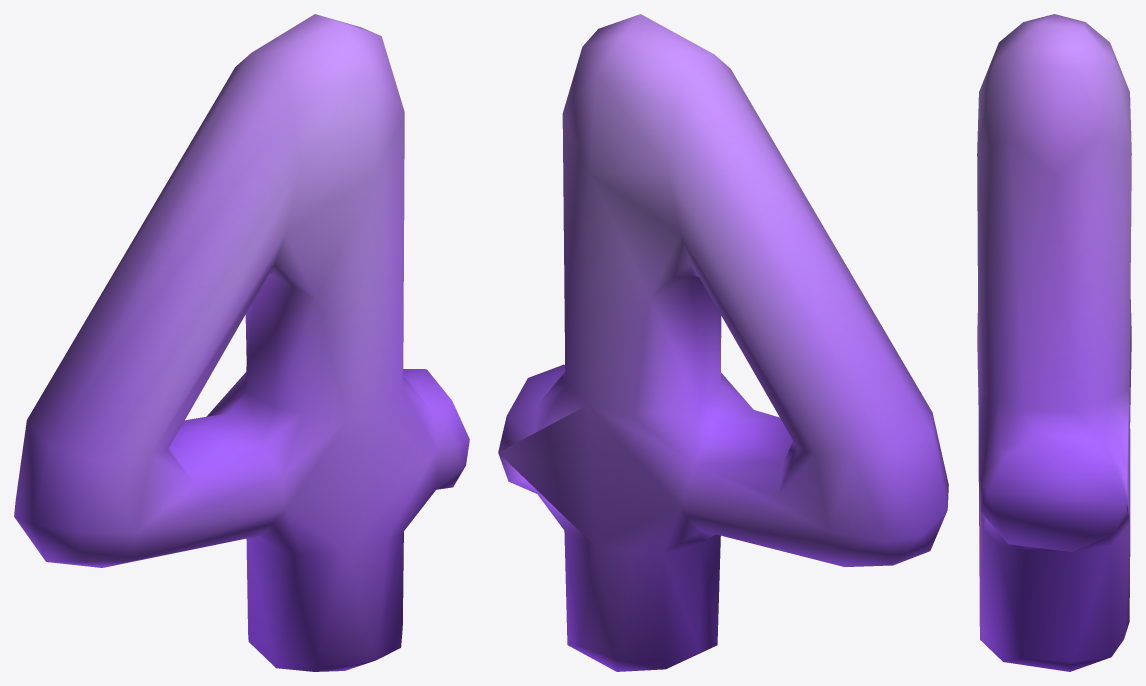
3 renders of one model, left to right at view 1: azimuth 30°, elevation 25°; view 2: azimuth 150°, elevation 25°; view 3: azimuth 270°, elevation 25°, orthographic.
Parts seen in each view (by area): view 1: Processed_Mesh0_Geometry; view 2: Processed_Mesh0_Geometry; view 3: Processed_Mesh0_Geometry.
Part boxes in pixels (bbox=[...]): Processed_Mesh0_Geometry: bbox=[14, 14, 469, 671]; Processed_Mesh0_Geometry: bbox=[498, 14, 948, 671]; Processed_Mesh0_Geometry: bbox=[977, 14, 1131, 671].
Size of what is drawn, in the model's own units: 0.0547 by 0.0814 by 0.0179.
Materials: 1 (1 with a texture image).
